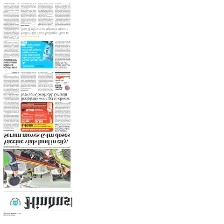news_paper: (0, 1, 75, 220)
